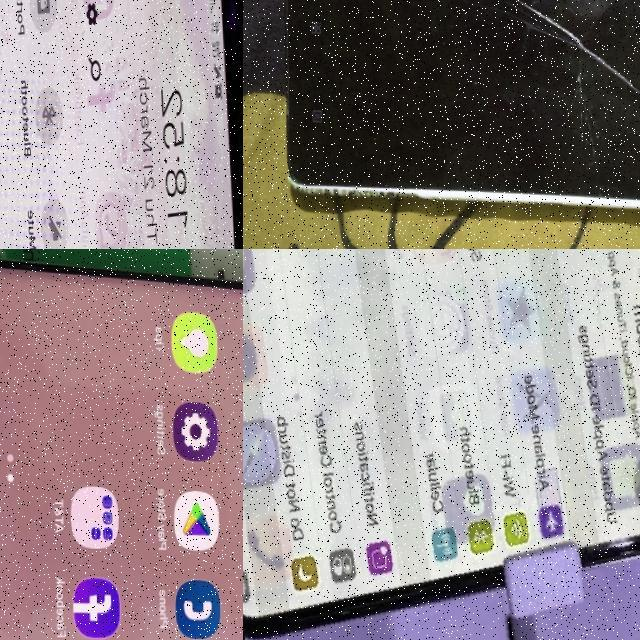dead pixel: (19, 619, 75, 640)
screen crack: (387, 0, 640, 113)
